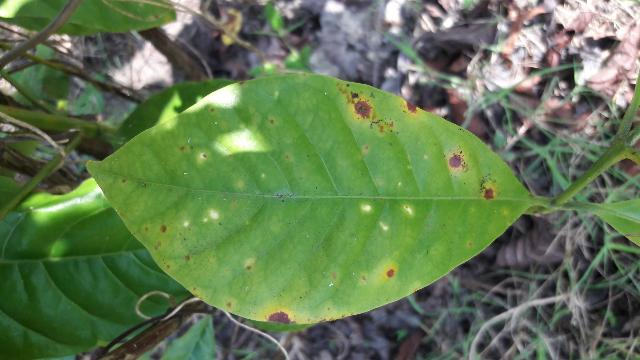rust_level_2: (83, 75, 531, 325)
